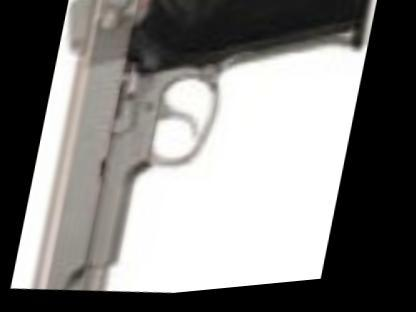pistol: (18, 0, 375, 308)
